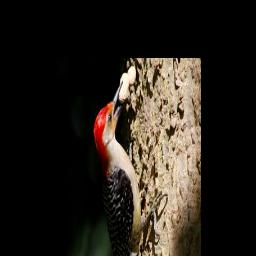Woodpecker: (93, 80, 170, 256)
